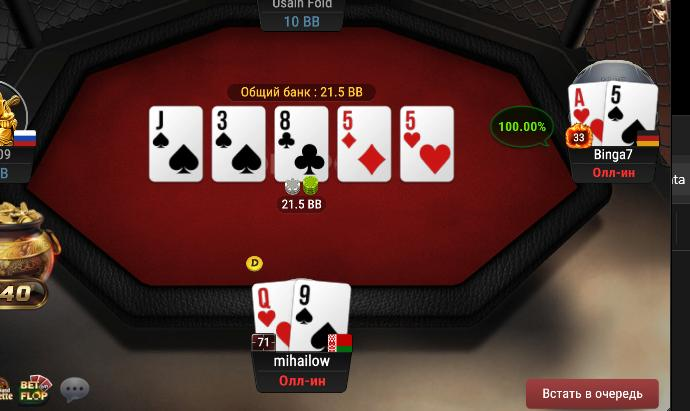3s: (213, 107, 263, 181)
5d: (338, 107, 391, 179)
5h: (401, 107, 453, 182)
5s: (606, 81, 657, 146)
8c: (275, 107, 327, 180)
9s: (292, 279, 351, 354)
Ah: (567, 83, 605, 146)
Js: (150, 107, 203, 182)
Qh: (252, 281, 294, 349)
